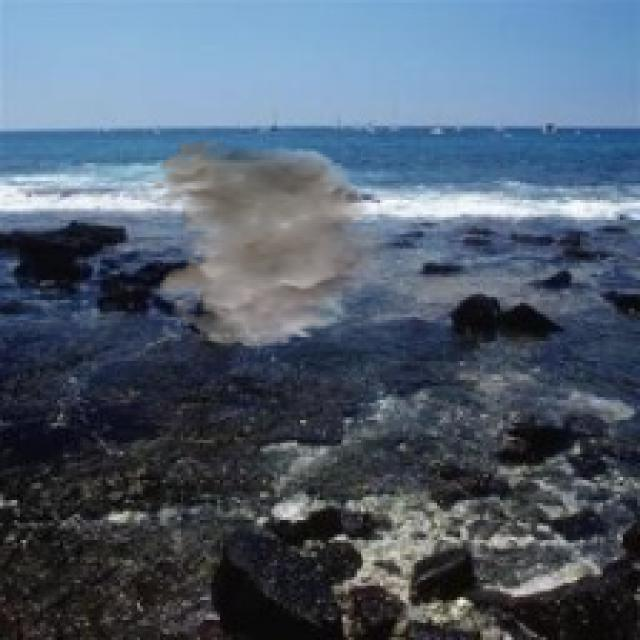smoke: (152, 137, 397, 349)
